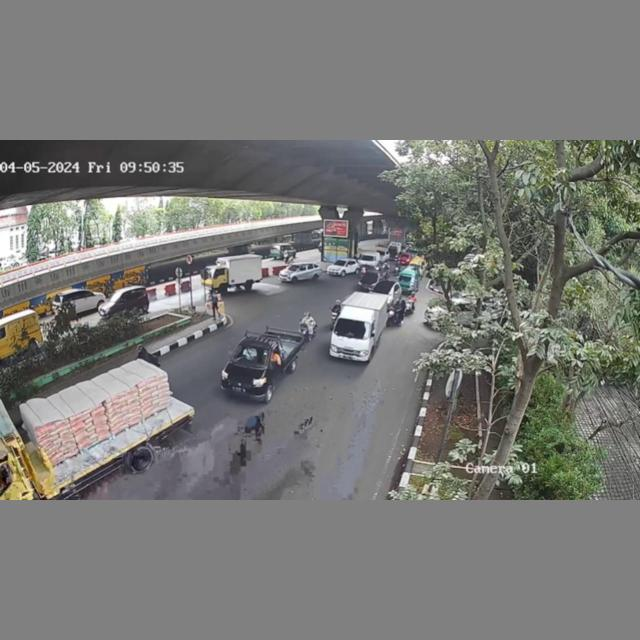windshield: (231, 346, 270, 372), (334, 315, 371, 341)
